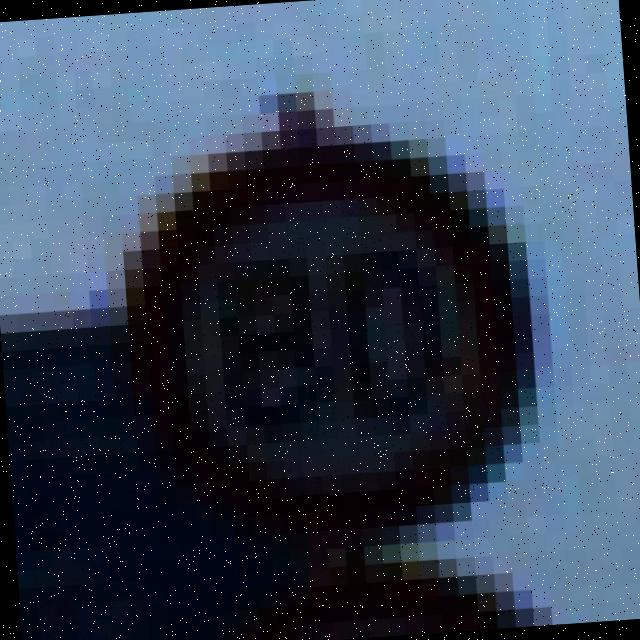Ograniczenie predkosci do 80: (125, 136, 544, 546)
